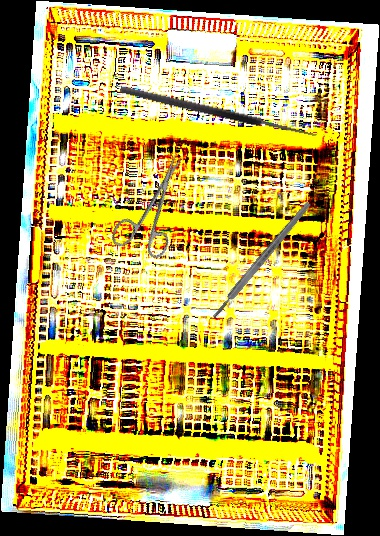Hook Surgical: (119, 75, 321, 140)
Iris Scissors: (108, 144, 206, 266)
Scalpel Handle: (210, 200, 313, 321)
